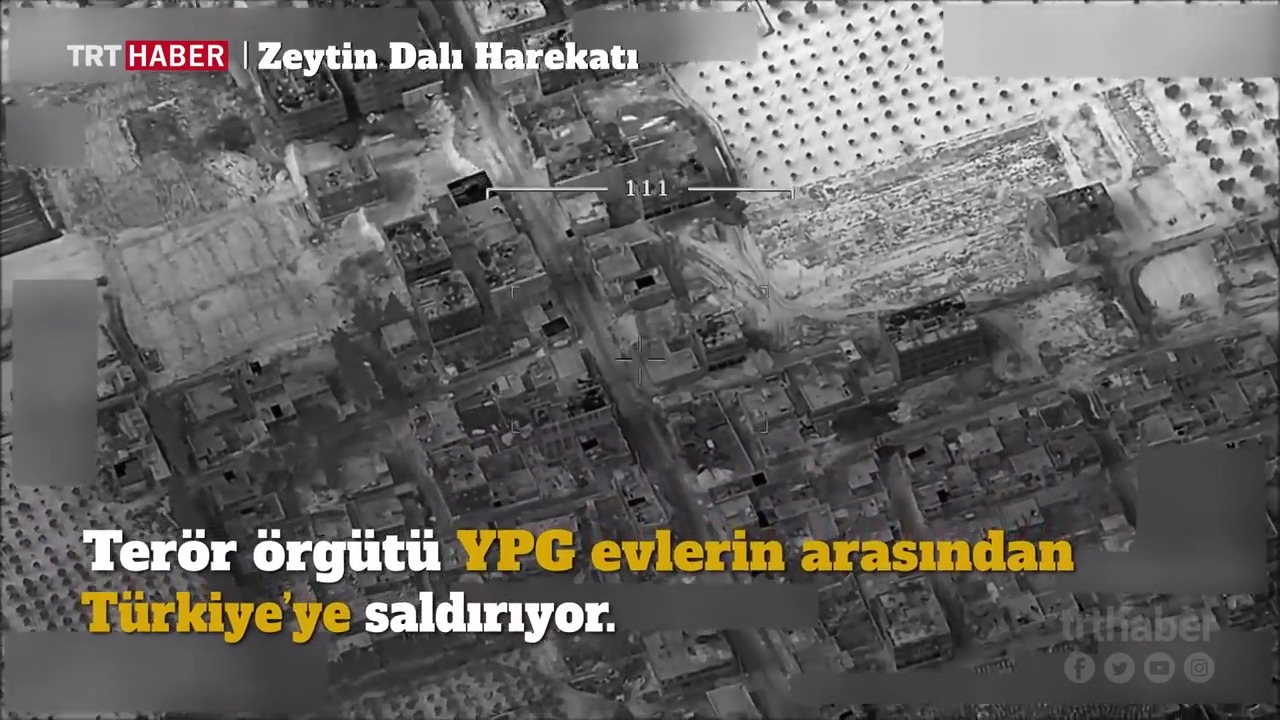bina: (878, 295, 1006, 371), (380, 202, 458, 287), (874, 579, 951, 662), (455, 154, 530, 232), (302, 153, 390, 218), (1038, 184, 1127, 246), (621, 330, 699, 392), (415, 261, 470, 332), (427, 443, 484, 511), (485, 239, 550, 298), (700, 299, 758, 363), (612, 260, 682, 306)
